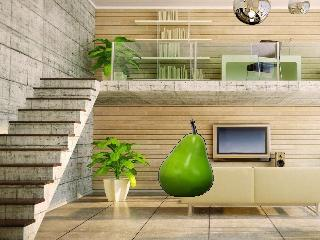pear: (156, 116, 216, 198)
